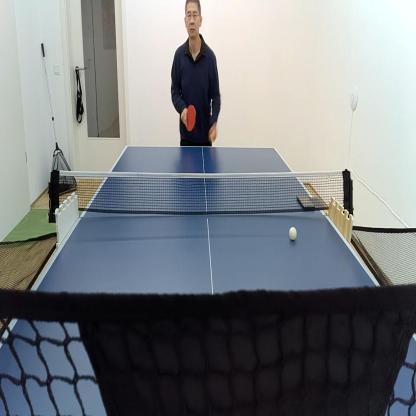Ball: (288, 225, 298, 242)
